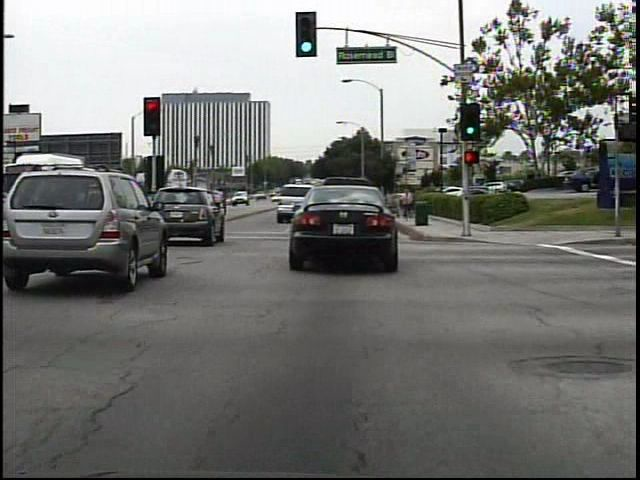person: (399, 187, 418, 222)
